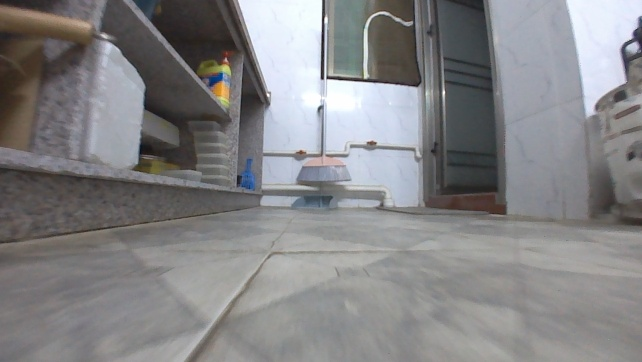blanket: (373, 204, 491, 215)
door_anno: (423, 0, 498, 209)
